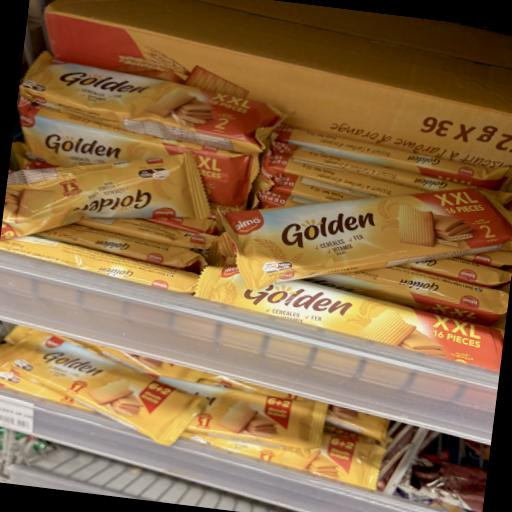golden: (187, 159, 512, 323), (0, 287, 233, 476)
